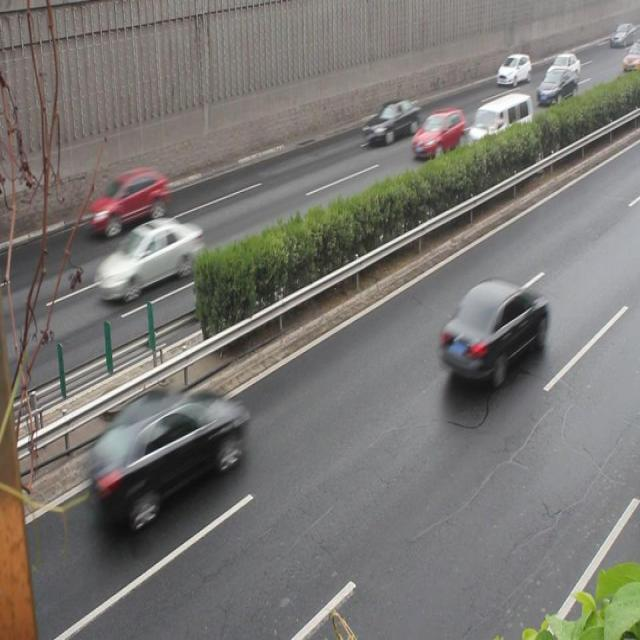car: (90, 384, 247, 521), (438, 275, 547, 378), (95, 214, 203, 300), (87, 164, 167, 234), (362, 96, 419, 146), (411, 106, 463, 154), (534, 65, 576, 106), (494, 51, 529, 86), (542, 50, 577, 84)
